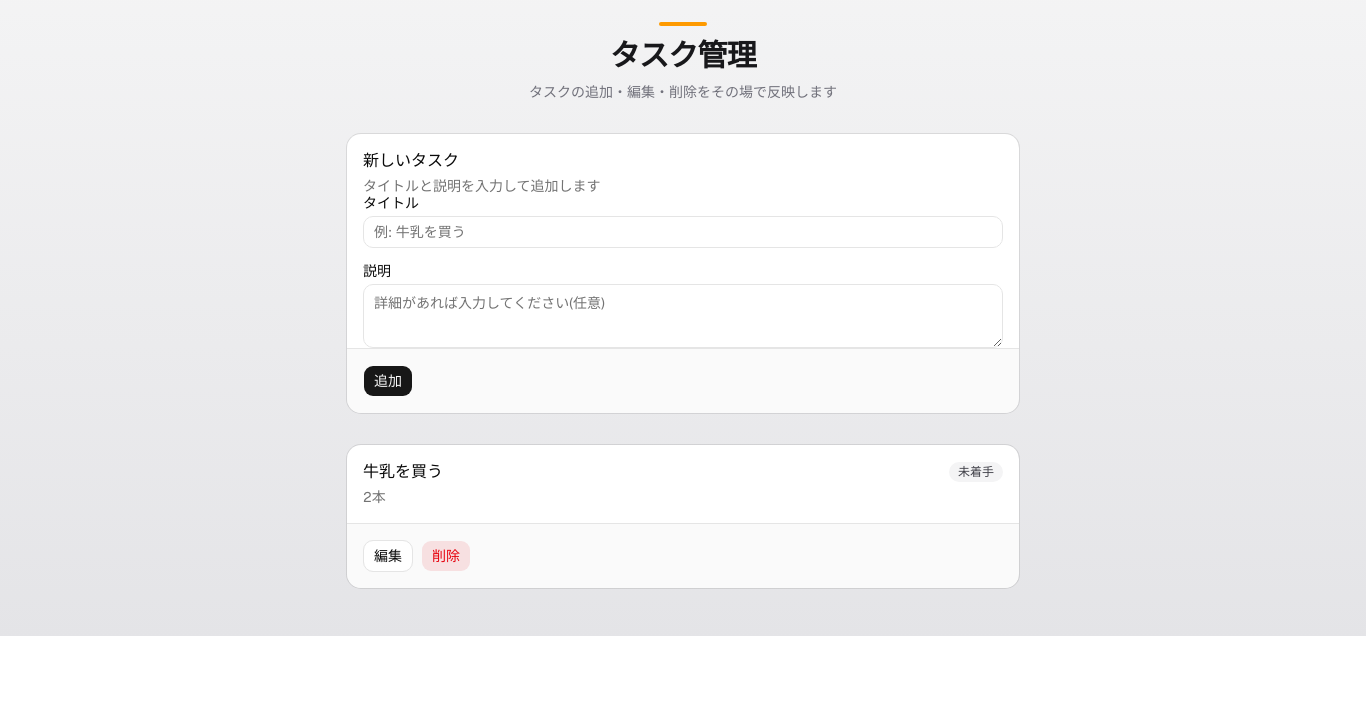
it: TaskBoard タスクの編集 › 状態遷移(逆方向): 編集中にキャンセルすると変更を保存せず一覧表示に戻る
This screenshot has width=1366, height=721.
Expected: the text "牛乳を買う" is shown, [363,461,443,482]
Click the button "編集" at [388, 556], box [363,540,413,572]
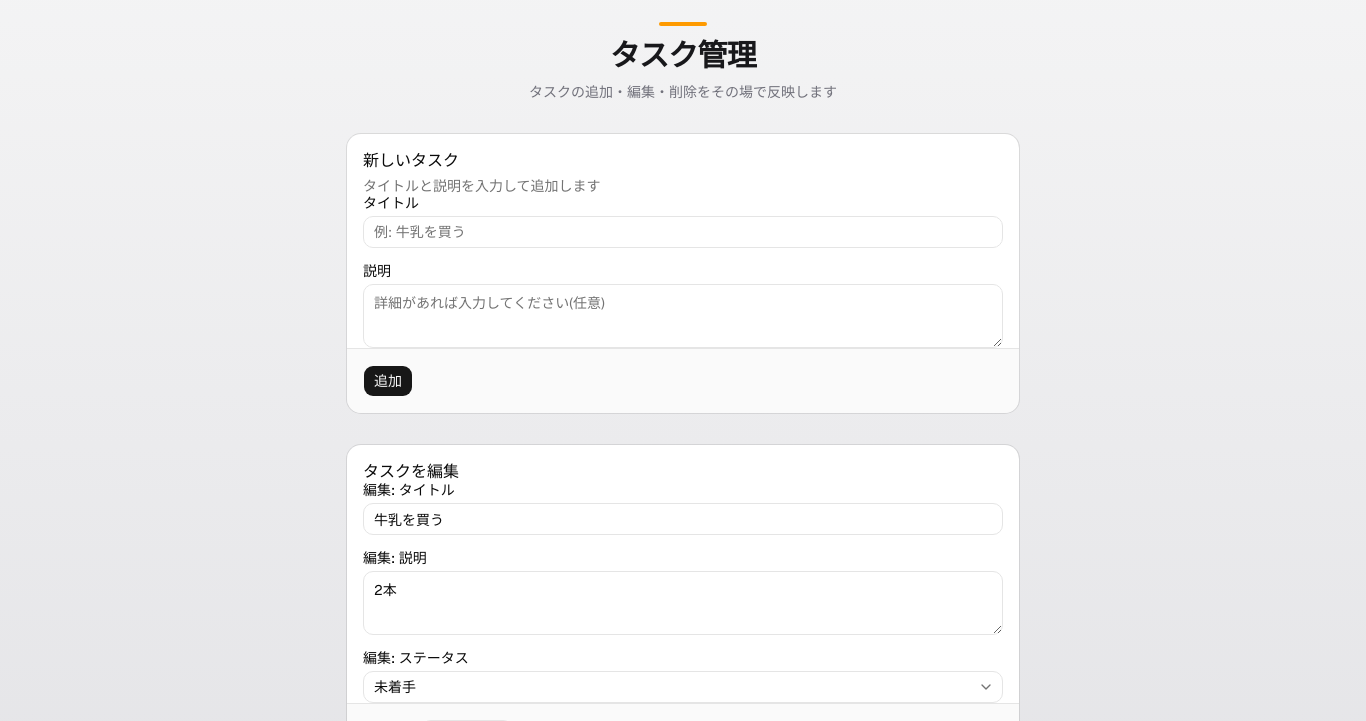
Replace the text in the field labelled "編集: タイトル" with "変更後タイトル" at [683, 519], box [363,503,1003,535]
(page scrolled)
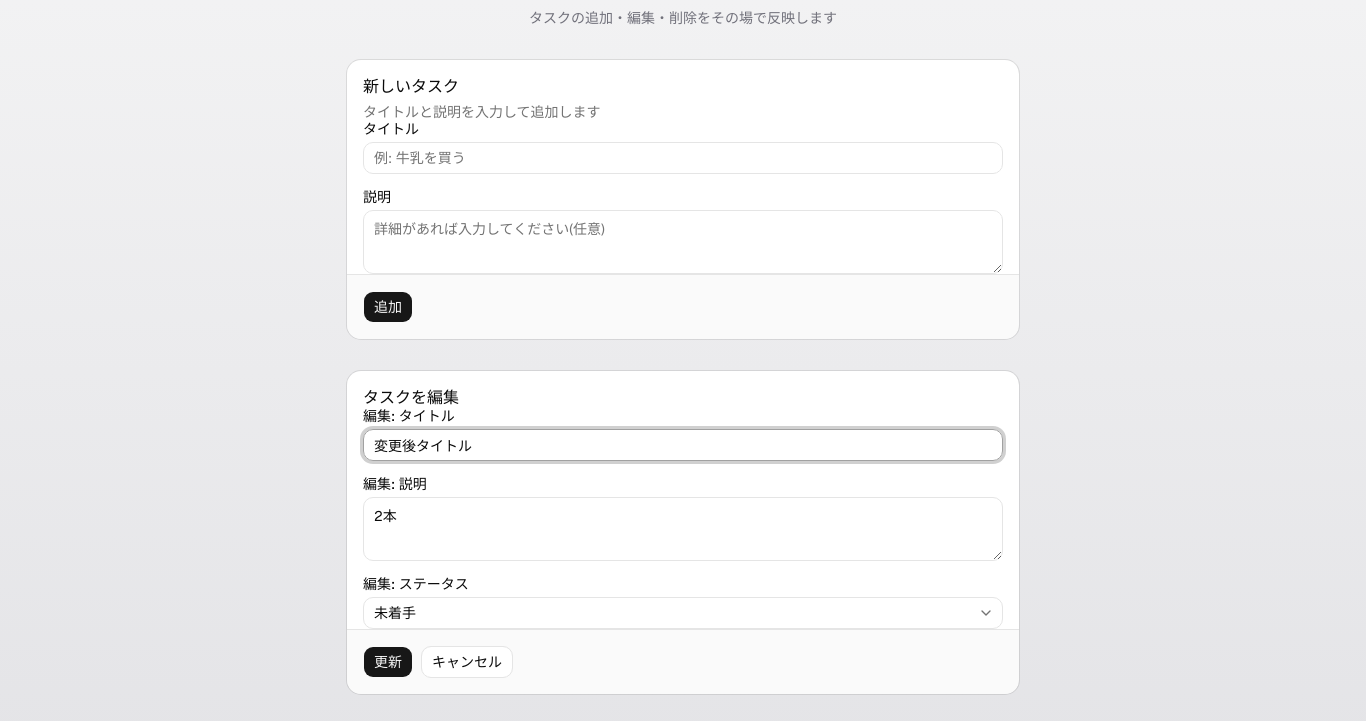
Click the button "キャンセル" at [467, 662], box [421,646,513,678]
(page scrolled)
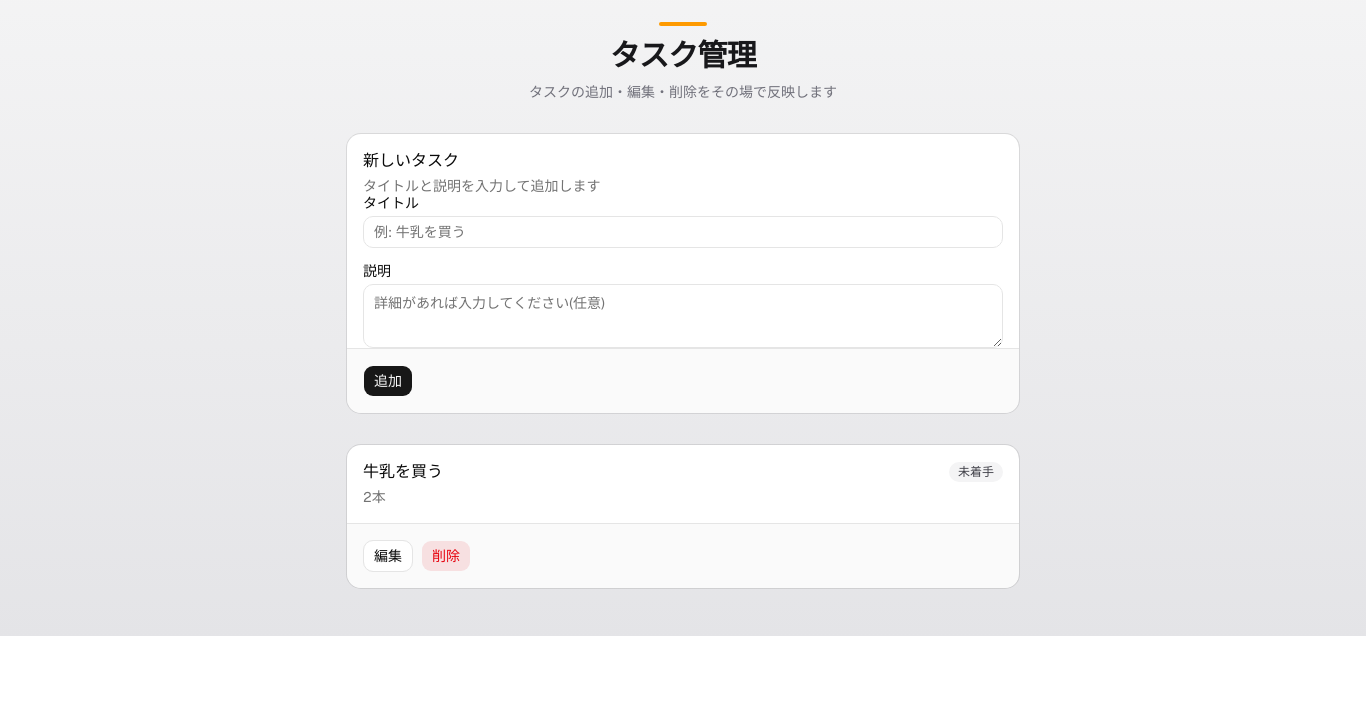
Expected: the text "変更後タイトル" is not shown
Now the text "牛乳を買う" is shown, box [363,461,443,482]
